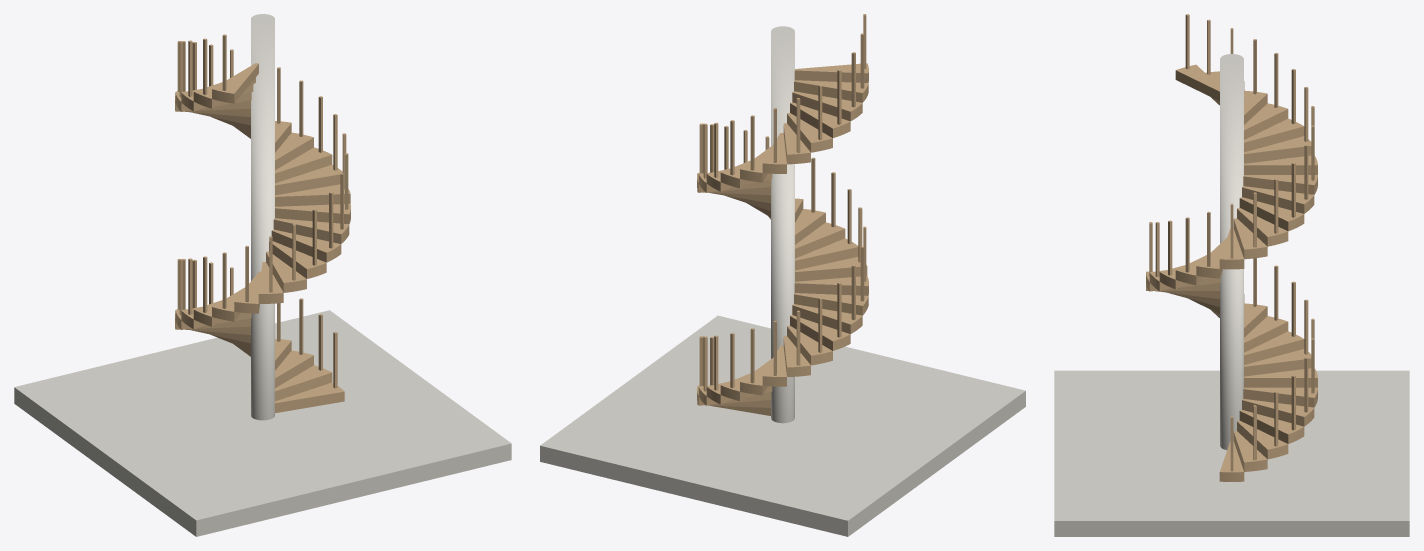
3 renders of one model, left to right at view 1: azimuth 30°, elevation 25°; view 2: azimuth 150°, elevation 25°; view 3: azimuth 270°, elevation 25°, orthographic. The views are drawn at different scales.
Parts seen in each view (by area): view 1: column, step-0, step-22, step-1, step-23, step-18, step-19, step-20, step-21, step-17, step-35, step-24 (+9 smaller); view 2: column, step-15, step-34, step-12, step-33, step-11, step-14, step-13, step-35, step-16, step-32, step-10 (+12 smaller); view 3: column, step-7, step-29, step-8, step-30, step-4, step-26, step-5, step-3, step-25, step-27, step-2 (+17 smaller).
Part boxes in pixels (x1=…): column: x1=14, y1=14, x2=511, y2=536; step-0: x1=275, y1=332, x2=344, y2=413; step-22: x1=275, y1=114, x2=342, y2=195; step-1: x1=275, y1=314, x2=332, y2=401; step-23: x1=275, y1=96, x2=332, y2=183; step-18: x1=271, y1=192, x2=341, y2=262; step-19: x1=273, y1=173, x2=349, y2=243; step-20: x1=275, y1=153, x2=350, y2=224; step-21: x1=275, y1=133, x2=350, y2=206; step-17: x1=269, y1=209, x2=326, y2=278; step-35: x1=212, y1=34, x2=258, y2=103; step-24: x1=275, y1=80, x2=313, y2=170; column: x1=540, y1=26, x2=1025, y2=536; step-15: x1=795, y1=189, x2=858, y2=270; step-34: x1=794, y1=33, x2=868, y2=102; step-12: x1=794, y1=246, x2=868, y2=315; step-33: x1=792, y1=52, x2=862, y2=121; step-11: x1=792, y1=265, x2=862, y2=333; step-14: x1=795, y1=207, x2=867, y2=281; step-13: x1=794, y1=226, x2=868, y2=295; step-35: x1=794, y1=14, x2=868, y2=82; step-16: x1=795, y1=172, x2=845, y2=258; step-32: x1=790, y1=69, x2=850, y2=137; step-10: x1=790, y1=282, x2=850, y2=350; column: x1=1054, y1=54, x2=1409, y2=536; step-7: x1=1244, y1=299, x2=1311, y2=376; step-29: x1=1244, y1=87, x2=1311, y2=163; step-8: x1=1244, y1=281, x2=1304, y2=364; step-30: x1=1244, y1=69, x2=1304, y2=152; step-4: x1=1242, y1=357, x2=1314, y2=426; step-26: x1=1242, y1=144, x2=1314, y2=213; step-5: x1=1243, y1=338, x2=1317, y2=407; step-3: x1=1239, y1=375, x2=1304, y2=443; step-25: x1=1239, y1=162, x2=1304, y2=231; step-27: x1=1243, y1=125, x2=1317, y2=194; step-2: x1=1237, y1=391, x2=1288, y2=459.
Size of the model in its own units: 6 by 7.78 by 6.
